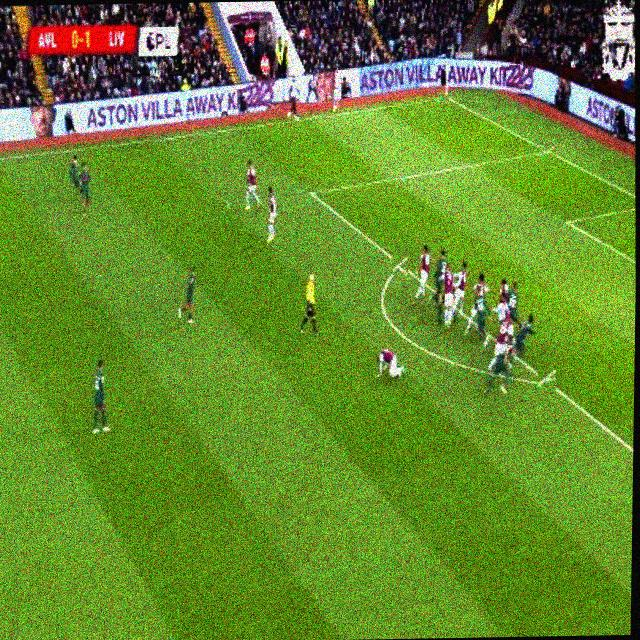bigarea_top_inner: (302, 181, 317, 201)
bigarea_top_outter: (539, 140, 555, 158)
bottom_arc_area_intersection: (537, 369, 556, 392)
corner: (434, 90, 453, 103)
smallarea_top_inner: (558, 210, 575, 232)
top_arc_area_intersection: (392, 253, 407, 274)
